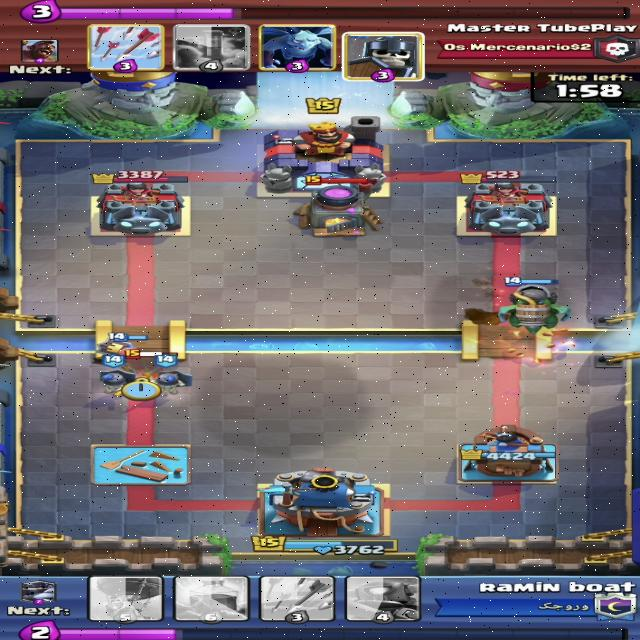Enemy-Furnace: (293, 176, 386, 238)
Enemy-Musketeer: (120, 348, 173, 383)
Player-Guard: (146, 353, 194, 397), (107, 332, 150, 373), (96, 353, 134, 398)
Player-InfernoDragon: (496, 277, 573, 334)
